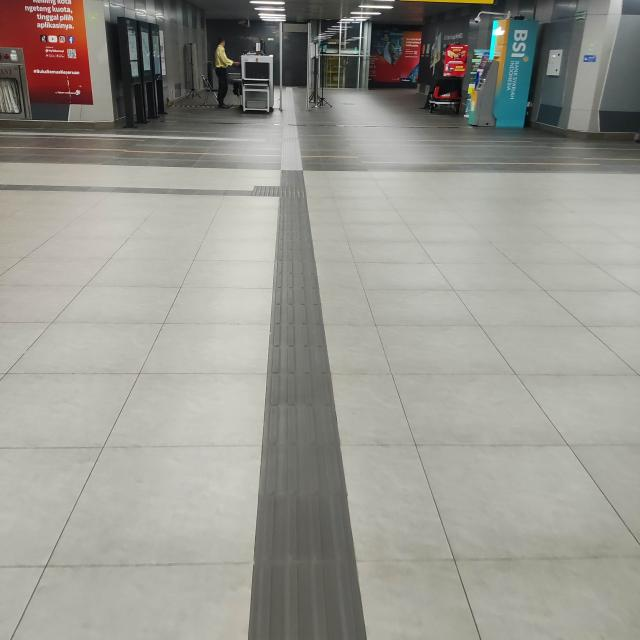lurus: (267, 199, 350, 640)
